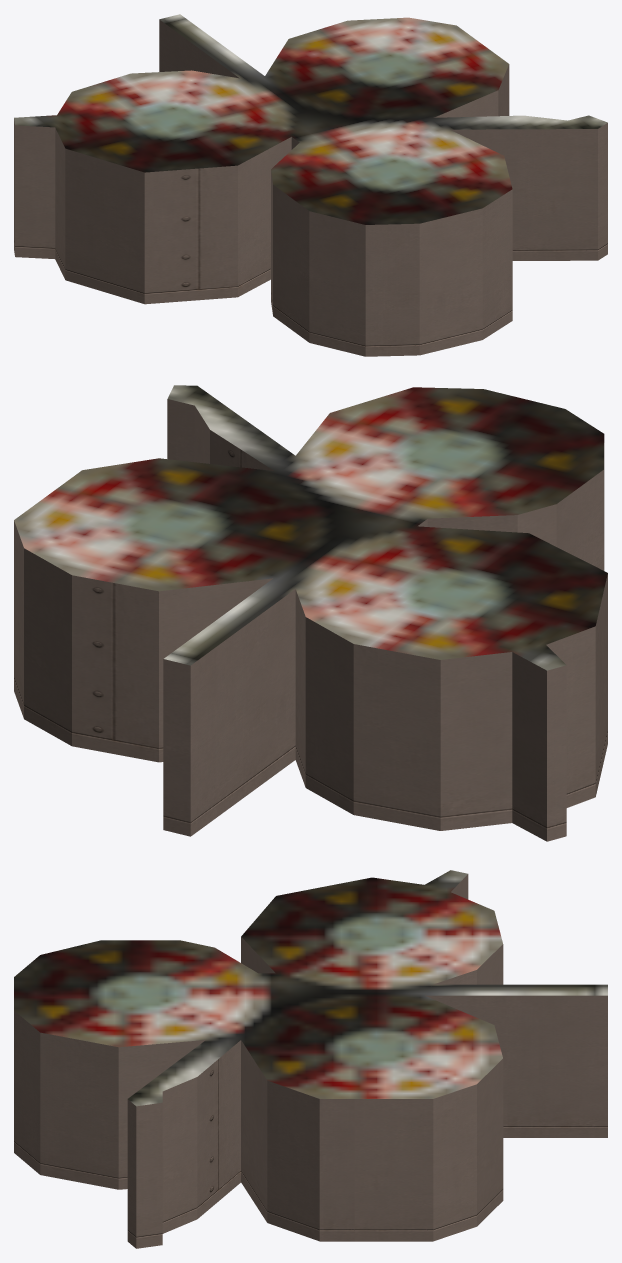
The model's file is fuel_tank_hard_37.glb.
3 views of the same model, one above another, from view 1: azimuth 30°, elevation 25°; view 2: azimuth 150°, elevation 25°; view 3: azimuth 270°, elevation 25° (orthographic). The views are drawn at different scales.
Visible parts, largest first — view 1: buildings/saxarba/fuel_tanks/fuel_tank_hard_37; view 2: buildings/saxarba/fuel_tanks/fuel_tank_hard_37; view 3: buildings/saxarba/fuel_tanks/fuel_tank_hard_37.
Boxes of the visible parts, x1=… form: buildings/saxarba/fuel_tanks/fuel_tank_hard_37: x1=14, y1=14, x2=607, y2=356; buildings/saxarba/fuel_tanks/fuel_tank_hard_37: x1=14, y1=385, x2=607, y2=841; buildings/saxarba/fuel_tanks/fuel_tank_hard_37: x1=14, y1=870, x2=607, y2=1248.
Size of the model in its own units: 64 by 18 by 68.
